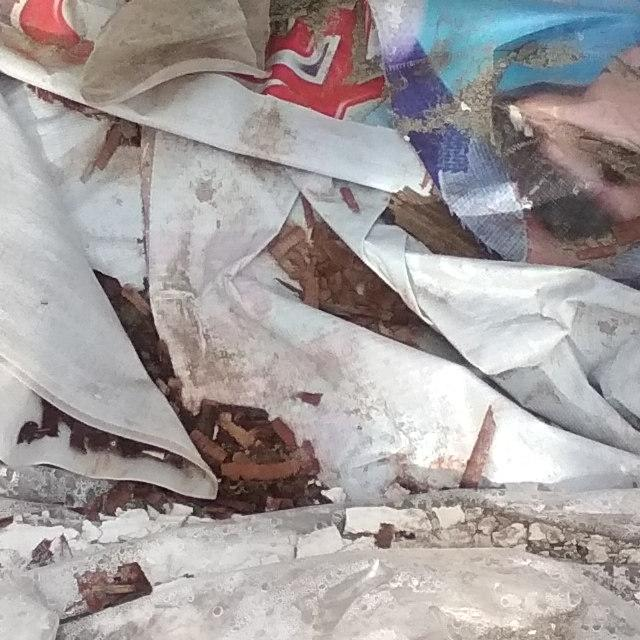plastic: (0, 0, 640, 577), (0, 374, 640, 640)
